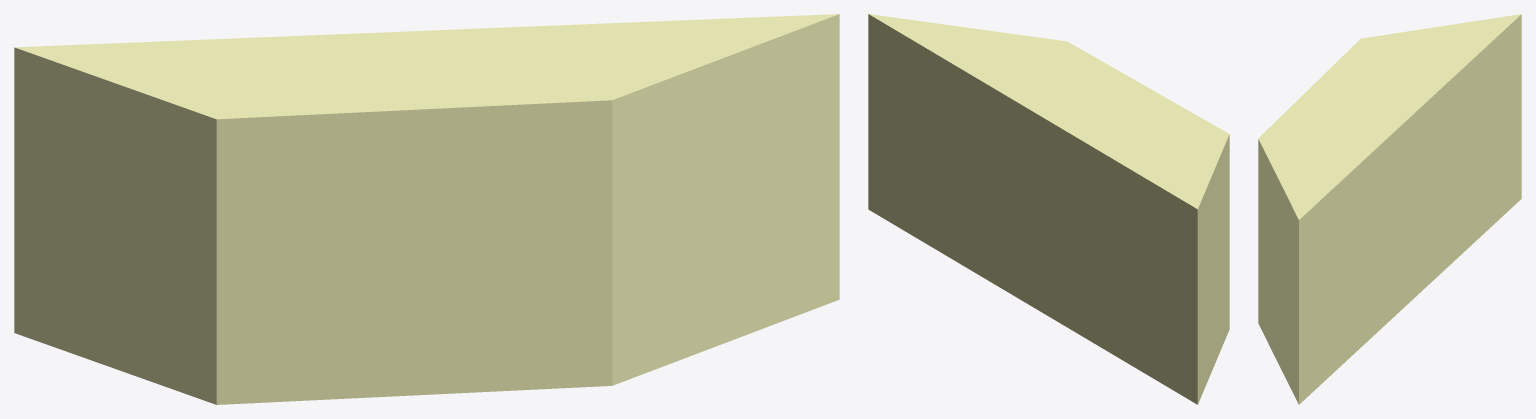
File: slingshot_kgunn.fbx
3 views of the same model, side by side, from view 1: azimuth 30°, elevation 25°; view 2: azimuth 150°, elevation 25°; view 3: azimuth 270°, elevation 25° (orthographic). The views are drawn at different scales.
Parts seen in each view (by area): view 1: slingshot02_GEO_TestTable01_kgunn; view 2: slingshot02_GEO_TestTable01_kgunn; view 3: slingshot02_GEO_TestTable01_kgunn.
Part boxes in pixels (x1,y1,x2,y2): slingshot02_GEO_TestTable01_kgunn: (14, 14, 839, 404); slingshot02_GEO_TestTable01_kgunn: (868, 14, 1229, 404); slingshot02_GEO_TestTable01_kgunn: (1258, 14, 1521, 404).
Bounding box in the file's own units: 158 × 66.11 × 85.46.
